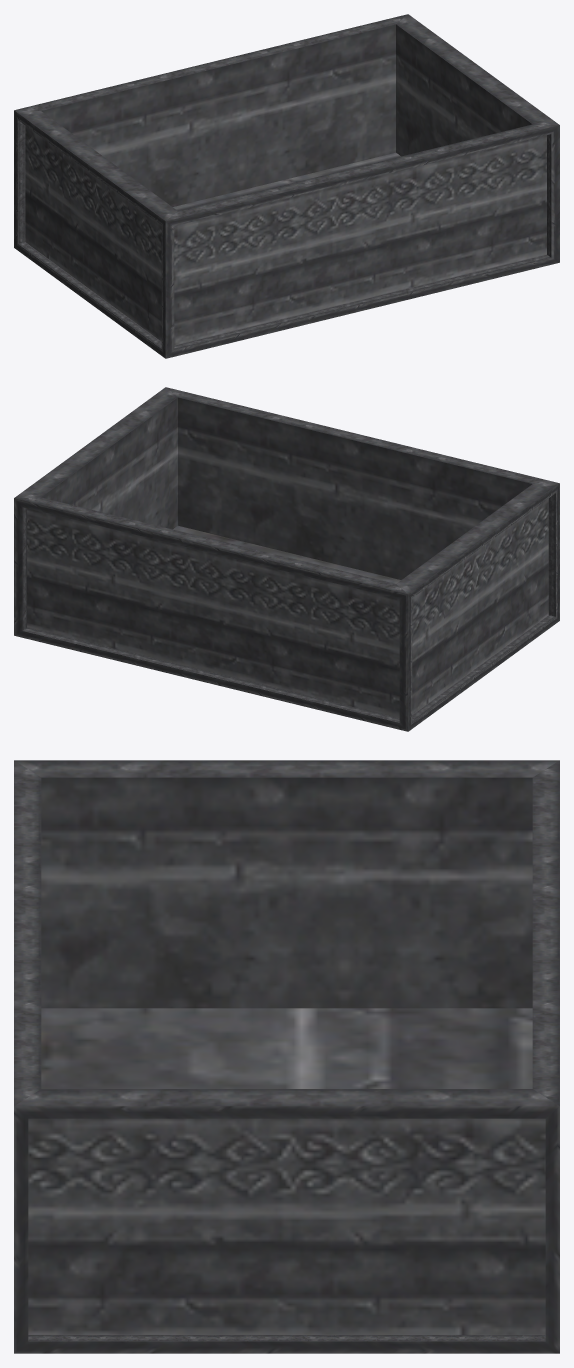
The model's file is ark-01.fbx.
The picture shows the model from 3 angles, top to bottom: view 1: azimuth 30°, elevation 25°; view 2: azimuth 150°, elevation 25°; view 3: azimuth 270°, elevation 25°; orthographic projection. The views are drawn at different scales.
Parts seen in each view (by area): view 1: Cube.150_Cube.004; view 2: Cube.150_Cube.004; view 3: Cube.150_Cube.004.
Boxes of the visible parts, <box> form: Cube.150_Cube.004: <box>14,14,559,358</box>; Cube.150_Cube.004: <box>14,387,559,731</box>; Cube.150_Cube.004: <box>14,760,559,1353</box>.
Size of the model in its own units: 1.5 by 0.5 by 1.
